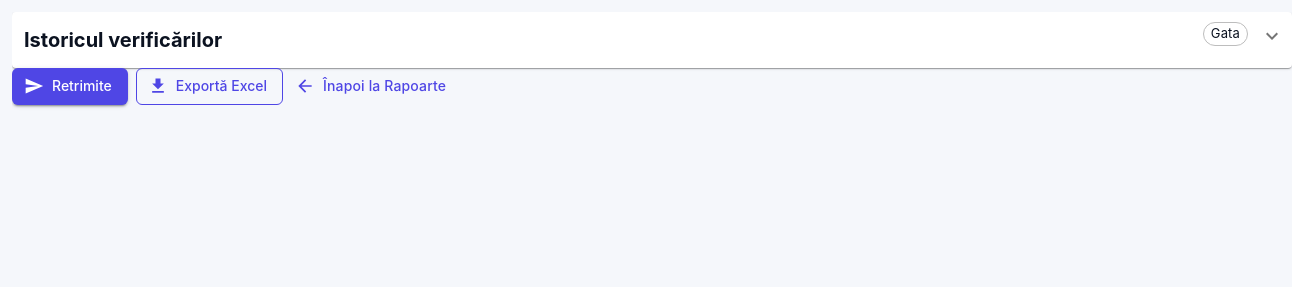
Test: ready revision with prior rejection history › shows a neutral current status and preserves the old rejection in ro
This screenshot has width=1292, height=287.
Click the button "Istoricul verificărilor".
click(123, 40)  # box [12,12,1195,68]
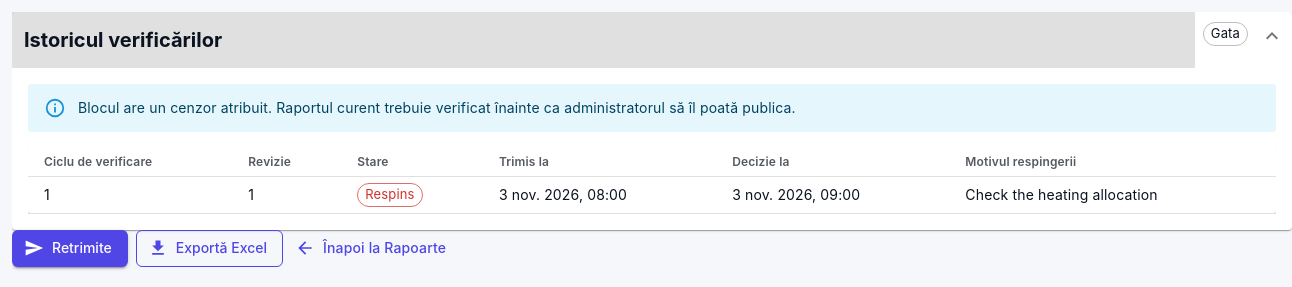
Expected: the button "Istoricul verificărilor" is expanded, [12,12,1195,68]
Expected: the text "Respins" is shown, [365,186,414,202]
Expected: the text "Check the heating allocation" is shown, [965,186,1158,203]
